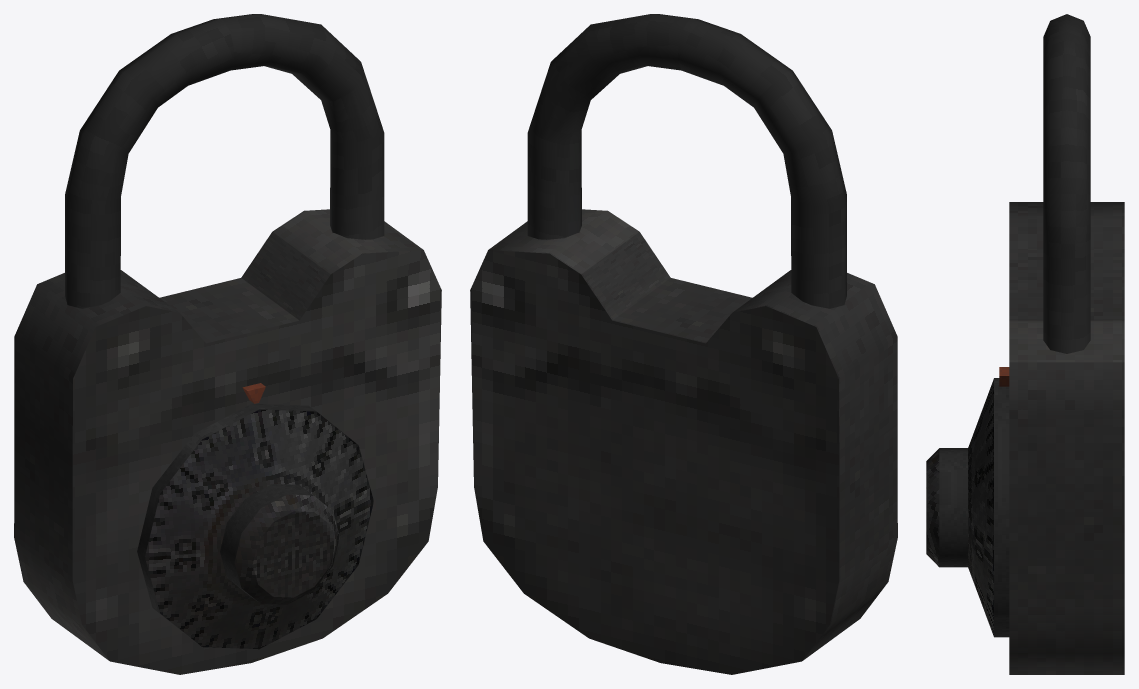
Rendered from padlock_2.glb.
The picture shows the model from 3 angles, left to right: view 1: azimuth 30°, elevation 25°; view 2: azimuth 150°, elevation 25°; view 3: azimuth 270°, elevation 25°; orthographic projection.
Visible parts, largest first — view 1: padlock_2, padlock_2_knob, padlock_2_shackle; view 2: padlock_2, padlock_2_shackle; view 3: padlock_2, padlock_2_shackle, padlock_2_knob.
Part boxes in pixels (box(x1,y1,x2,y2)): padlock_2: box(14, 209, 441, 674); padlock_2_knob: box(137, 403, 373, 649); padlock_2_shackle: box(65, 14, 384, 308); padlock_2: box(470, 209, 897, 674); padlock_2_shackle: box(527, 14, 846, 308); padlock_2: box(999, 202, 1124, 674); padlock_2_shackle: box(1043, 14, 1090, 353); padlock_2_knob: box(926, 378, 1009, 637).
Bounding box in the file's own units: 0.0806 × 0.1299 × 0.038.
1 material, 1 textured.
